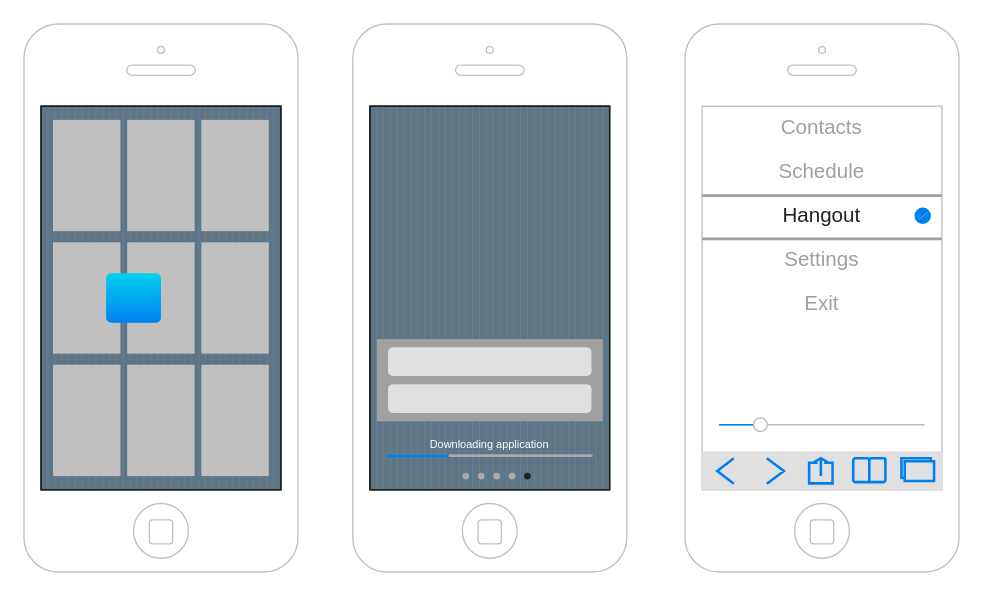
Image size: 984x596. Some labels were removed from this diagram. Each missing label, with the centre of its shape:
Icon: the point at 133,297
Wait Abort Download: the point at 489,379
